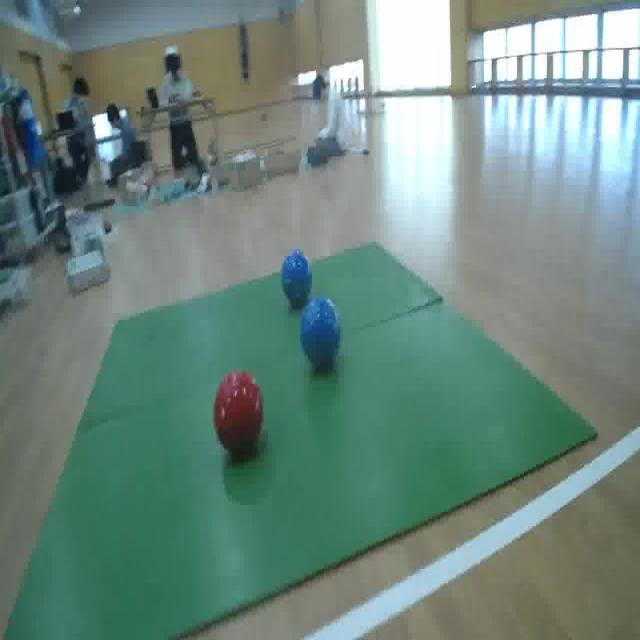blue_ball: (300, 296, 342, 370), (280, 244, 314, 306)
red_ball: (211, 366, 267, 463)
